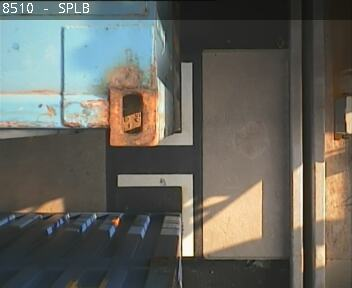groundmarker_1: (117, 62, 194, 257)
